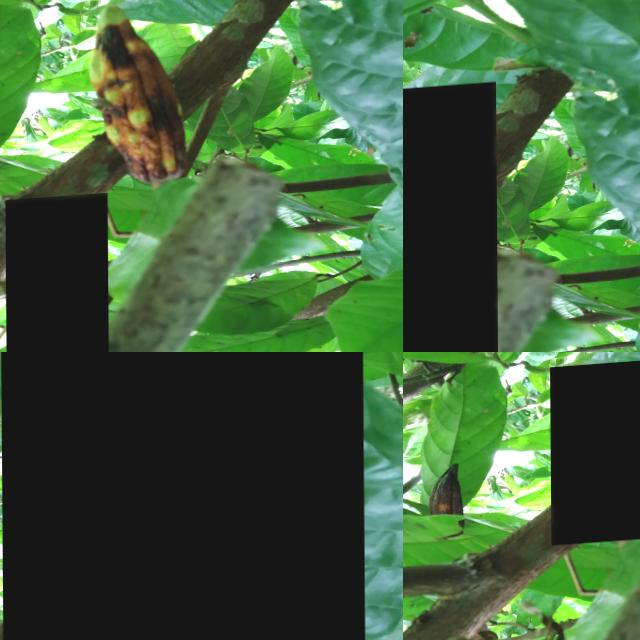Fitoftora: (0, 352, 365, 640), (549, 364, 640, 549)
Monilia: (403, 88, 497, 352), (4, 197, 108, 352)
